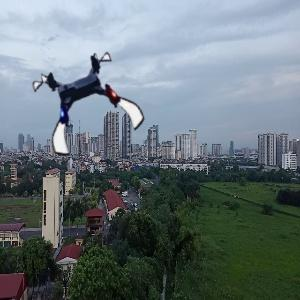drone: (40, 55, 140, 155)
